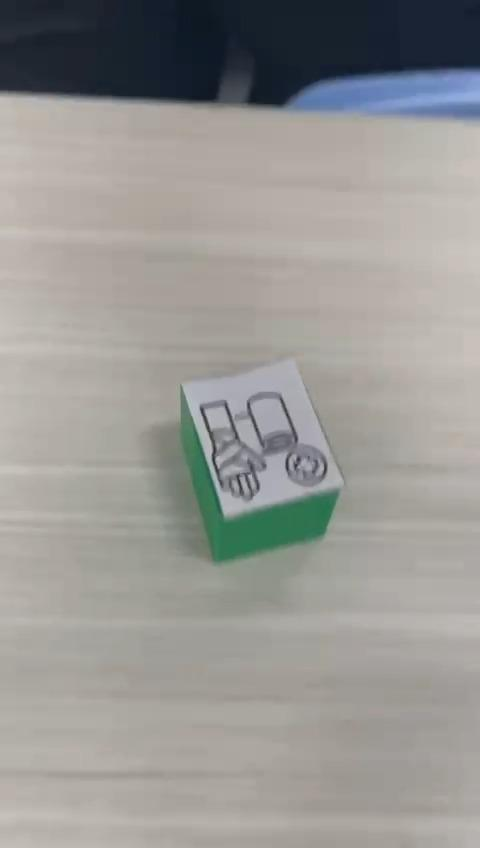Bandages: (179, 356, 344, 564)
